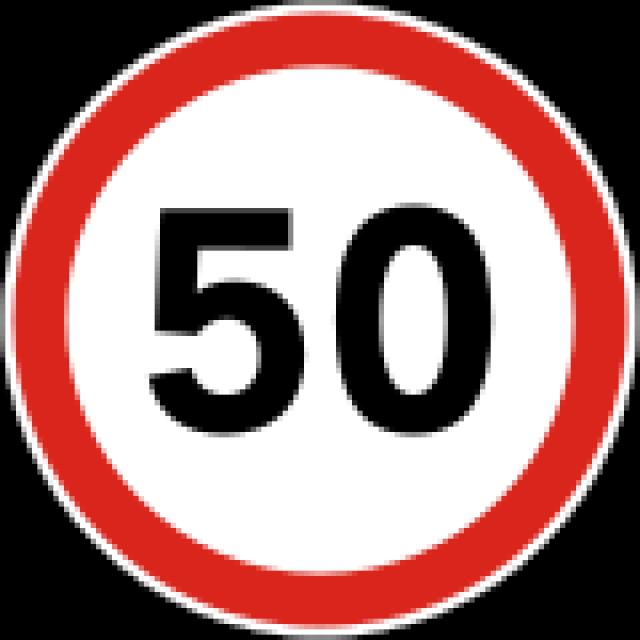Speed Limit -50-: (139, 192, 501, 440)
